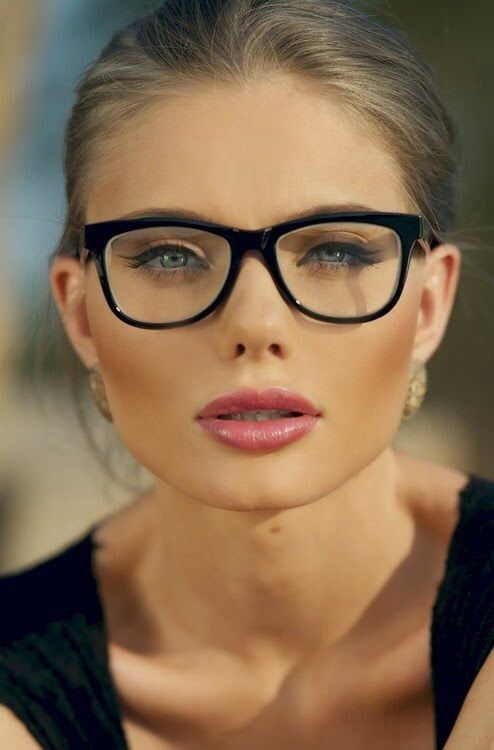llen: (274, 221, 403, 318)
rlen: (103, 224, 232, 323)
